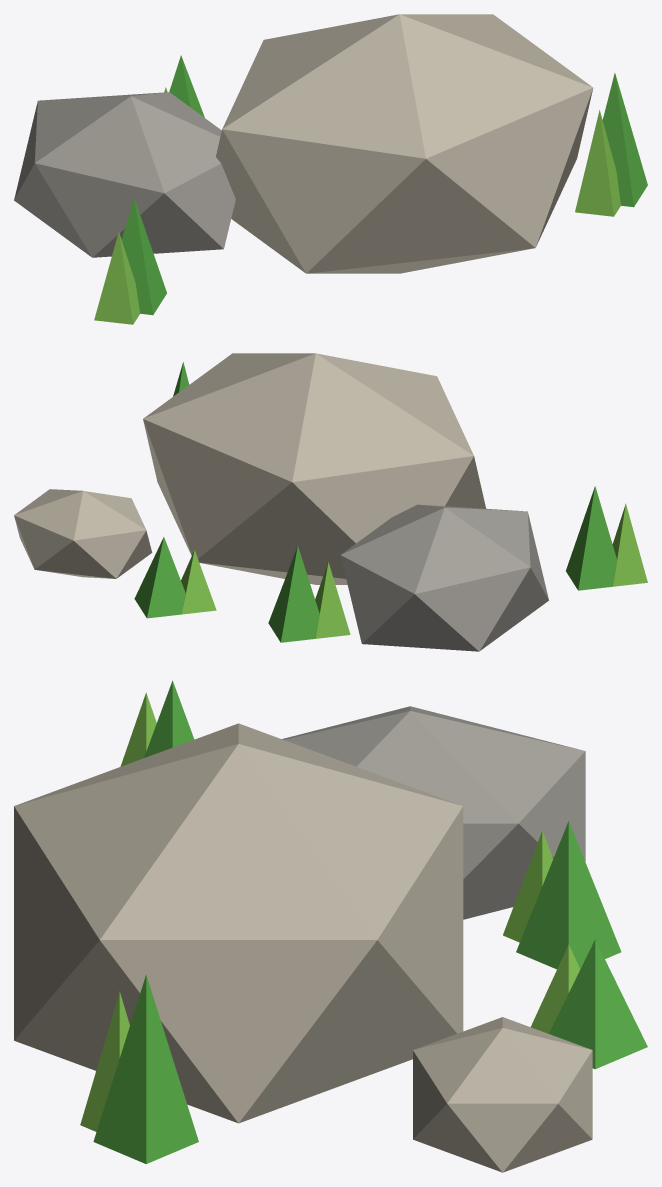
File: pedras.glb
3 views of the same model, one above another, from view 1: azimuth 30°, elevation 25°; view 2: azimuth 150°, elevation 25°; view 3: azimuth 270°, elevation 25° (orthographic). The views are drawn at different scales.
Parts seen in each view (by area): view 1: corpo; view 2: corpo; view 3: corpo.
Part boxes in pixels (x1,y1,x2,y2): corpo: (14, 14, 647, 324); corpo: (14, 353, 647, 651); corpo: (14, 680, 647, 1172).
Size of the model in its own units: 0.6959 by 0.3 by 0.4801.
